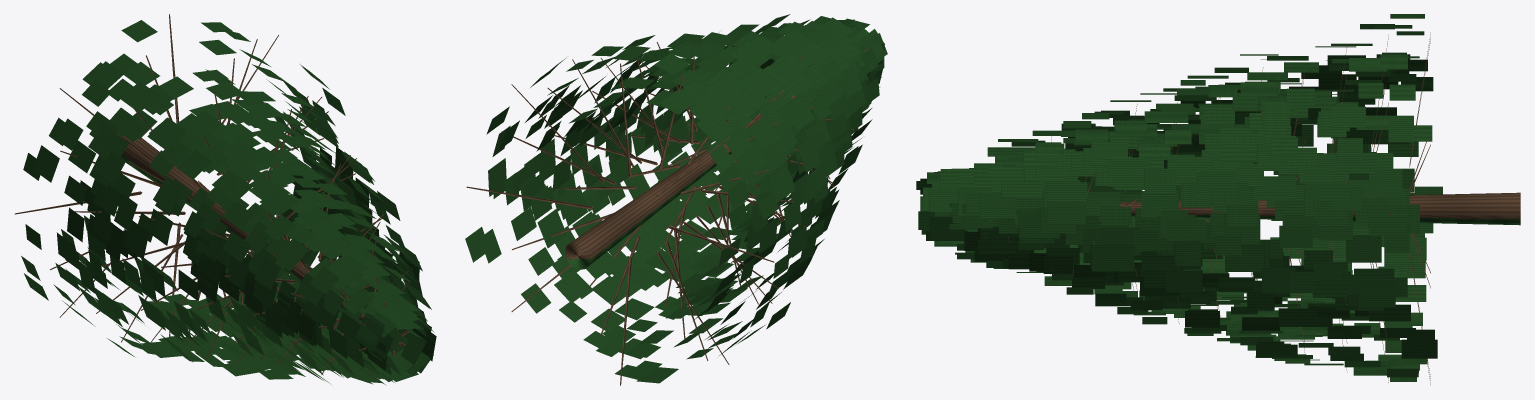
File: veg_conifer_pine_01.glb
3 renders of one model, left to right at view 1: azimuth 30°, elevation 25°; view 2: azimuth 150°, elevation 25°; view 3: azimuth 270°, elevation 25°, orthographic. The views are drawn at different scales.
Visible parts, largest first — view 1: veg_conifer_pine_01; view 2: veg_conifer_pine_01; view 3: veg_conifer_pine_01.
Boxes of the visible parts, x1,y1,x2,y2 form: veg_conifer_pine_01: (14,14,436,385); veg_conifer_pine_01: (465,14,887,385); veg_conifer_pine_01: (916,14,1520,385).
Size of the model in its own units: 5.92 by 5.99 by 9.5.
Materials: 1 (1 with a texture image).
